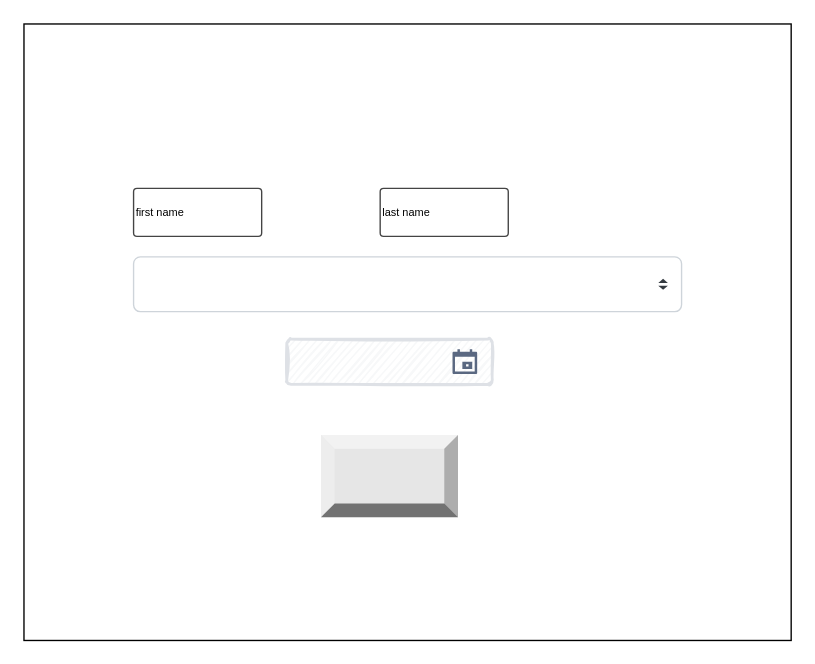
This 815x664 diagram has some shape labels left out. The shapes that lost their labels are listed below. From the top down, each one's centre as x and y in pixels, then its label:
At (407,284): "Open this select menu with tables".
At (388,475): "reserve".
